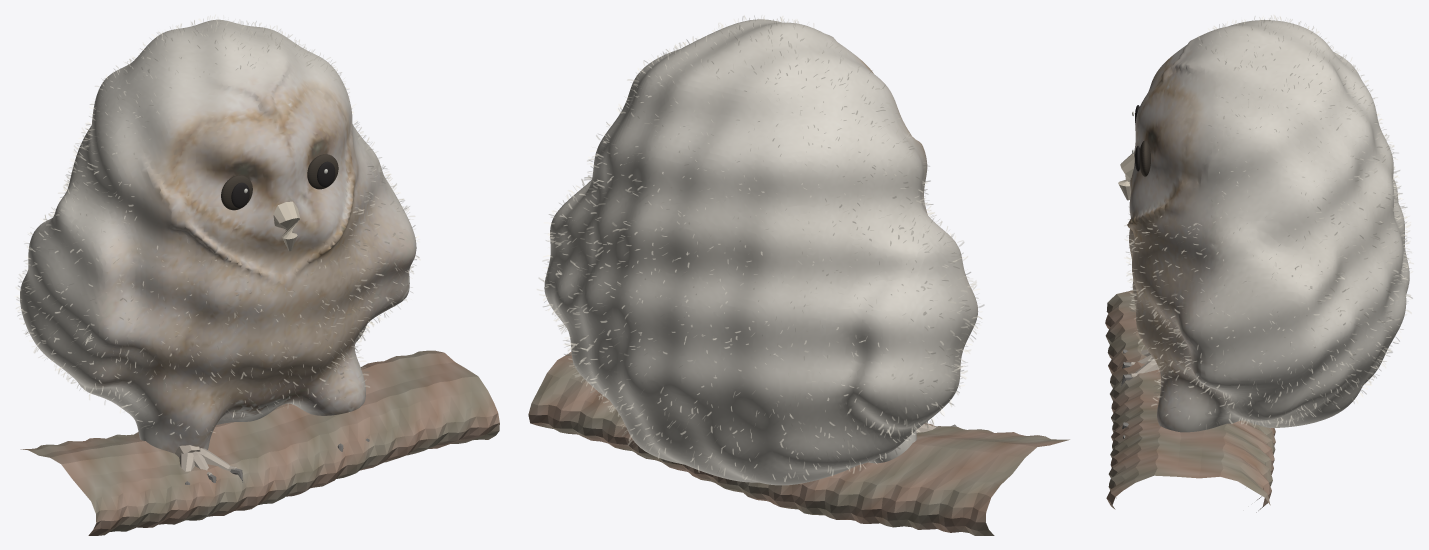
Rendered from owl172_run90_reference_projection_alpha_down_ART_UNREVIEWED.glb.
3 renders of one model, left to right at view 1: azimuth 30°, elevation 25°; view 2: azimuth 150°, elevation 25°; view 3: azimuth 270°, elevation 25°, orthographic. The views are drawn at different scales.
Parts seen in each view (by area): view 1: ORGANIC_CONNECTED_HEAD_BODY_HEART_RELIEF, TEMPORARY_BARK_SUPPORT_RESEARCH_ONLY, soft_alpha_mesoptile_research_groom, ivory_hooked_bill; view 2: ORGANIC_CONNECTED_HEAD_BODY_HEART_RELIEF, TEMPORARY_BARK_SUPPORT_RESEARCH_ONLY, soft_alpha_mesoptile_research_groom; view 3: ORGANIC_CONNECTED_HEAD_BODY_HEART_RELIEF, TEMPORARY_BARK_SUPPORT_RESEARCH_ONLY, soft_alpha_mesoptile_research_groom, ivory_hooked_bill.
Boxes of the visible parts, bbox=[...] form: ORGANIC_CONNECTED_HEAD_BODY_HEART_RELIEF: bbox=[20, 19, 416, 453]; TEMPORARY_BARK_SUPPORT_RESEARCH_ONLY: bbox=[20, 350, 499, 535]; soft_alpha_mesoptile_research_groom: bbox=[15, 15, 420, 438]; ivory_hooked_bill: bbox=[273, 201, 300, 251]; ORGANIC_CONNECTED_HEAD_BODY_HEART_RELIEF: bbox=[544, 19, 978, 485]; TEMPORARY_BARK_SUPPORT_RESEARCH_ONLY: bbox=[528, 352, 1069, 535]; soft_alpha_mesoptile_research_groom: bbox=[537, 15, 984, 481]; ORGANIC_CONNECTED_HEAD_BODY_HEART_RELIEF: bbox=[1127, 20, 1409, 432]; TEMPORARY_BARK_SUPPORT_RESEARCH_ONLY: bbox=[1105, 290, 1275, 512]; soft_alpha_mesoptile_research_groom: bbox=[1124, 15, 1413, 429]; ivory_hooked_bill: bbox=[1118, 153, 1134, 200].
Bounding box in the file's own units: 1.3 × 1.35 × 0.8799.
Materials: 1 (1 with a texture image).
